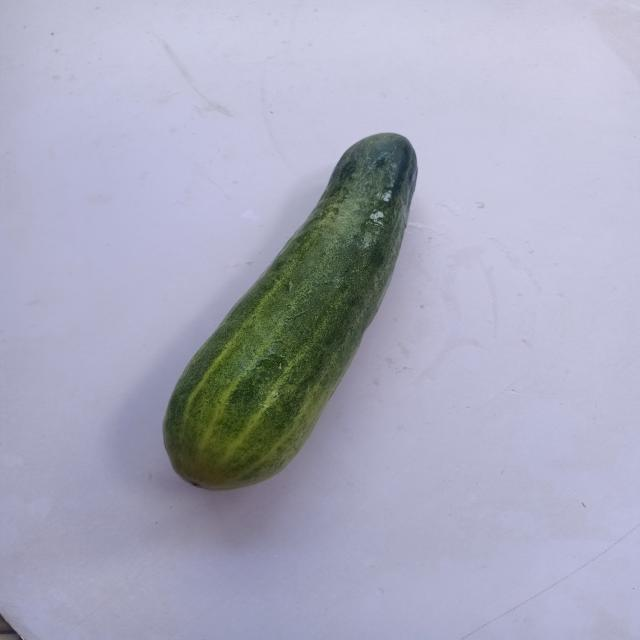Cucumber: (113, 117, 443, 531)
